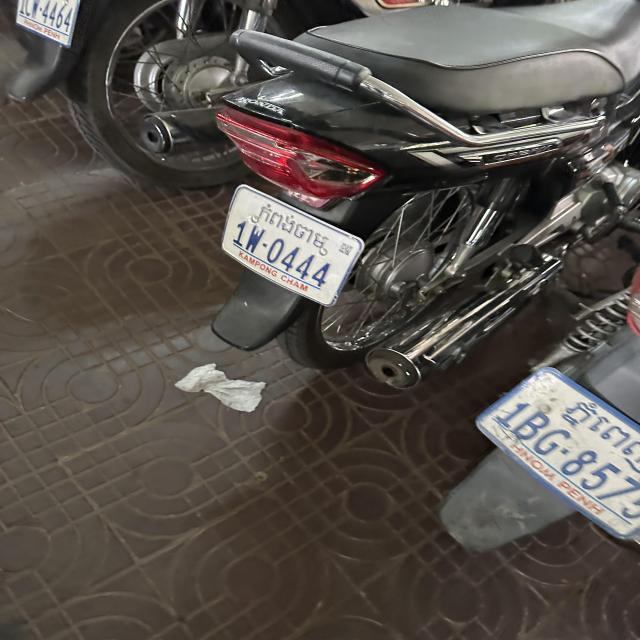Kampong_Cham: (257, 202, 328, 249)
